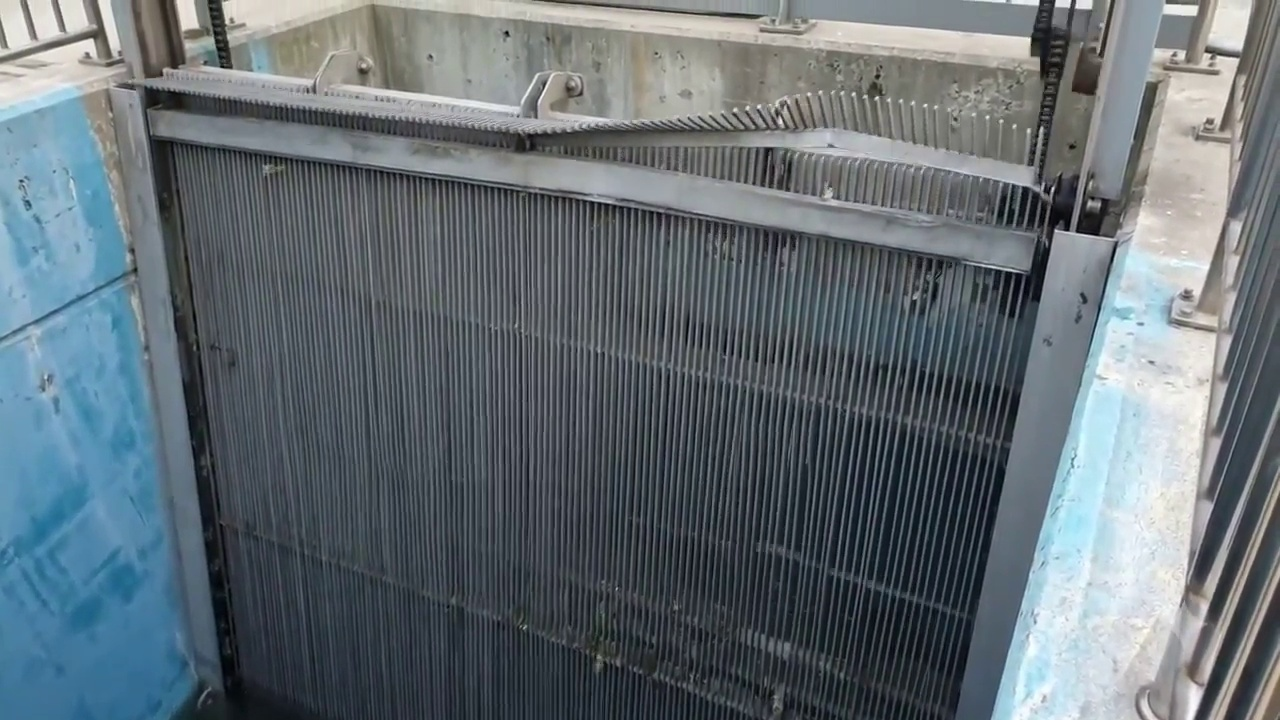damage: (519, 83, 1080, 215)
